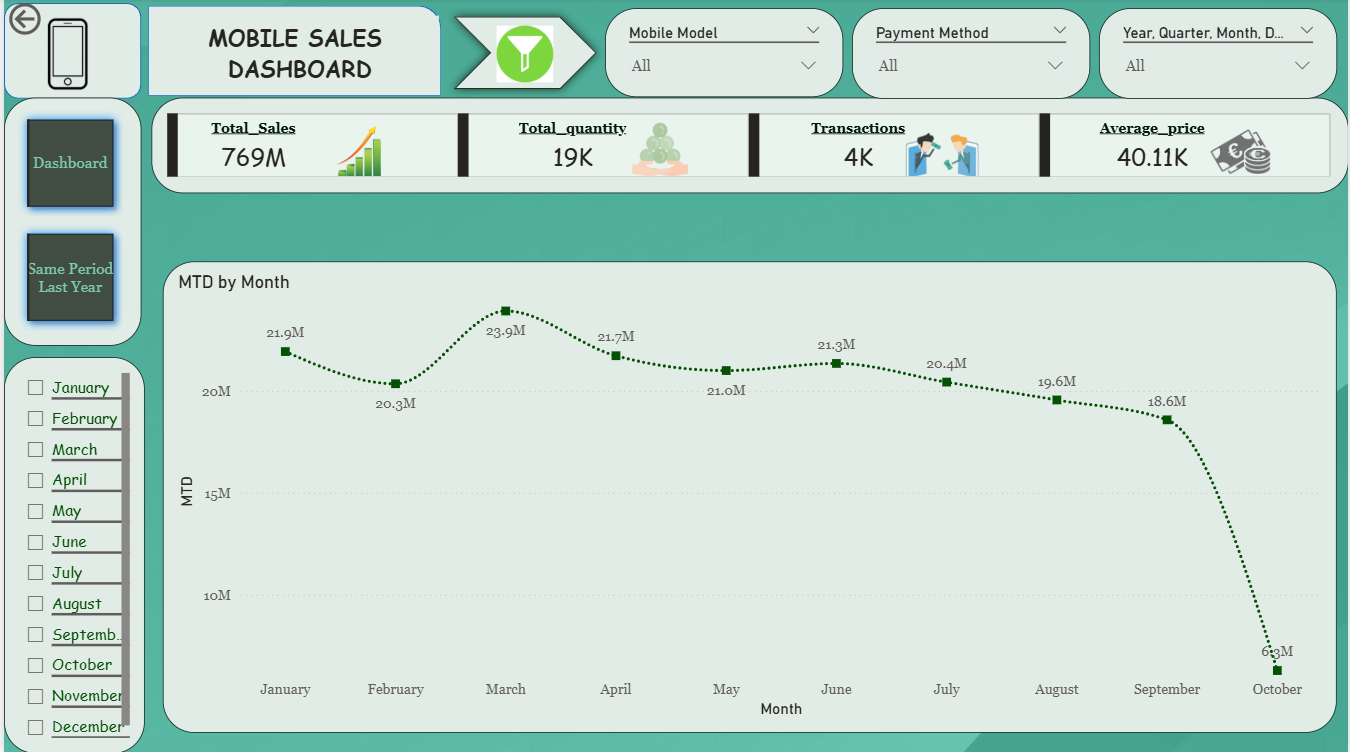

The page's visual inventory and layout, read from the dashboard file:
{"tool":"powerbi","page":{"name":"MTD REPORT","canvas":[1280,720],"ordinal":1},"visuals":[{"type":"shape","box":[420.1,9.6,152.4,85.2],"z":0},{"type":"shape","box":[0,4.8,130.8,91.2],"z":1000},{"type":"image","box":[7.2,12,106.8,82.8],"z":2000},{"type":"shape","box":[0,94.8,130.8,236.4],"z":3000},{"type":"cardVisual","fields":{"Data":["Sales_Data.Total_Sales","Sales_Data.Total_quantity","Sales_Data.Transactions","Sales_Data.Average_price"]},"box":[140.4,94.8,1140.2,91.2],"z":4000},{"type":"slicer","fields":{"Values":["Sales_Data.Payment Method"]},"box":[807.7,9.6,226.8,86.4],"z":5000},{"type":"slicer","fields":{"Values":["Sales_Data.Mobile Model"]},"box":[572.5,9.6,226.8,85.2],"z":6000},{"type":"shape","box":[136.8,7.2,279.6,86.4],"z":7000},{"type":"textbox","box":[140.4,16.8,273.6,70.8],"z":8000},{"type":"image","box":[464,19.4,63.9,68.1],"z":9000},{"type":"lineChart","fields":{"Y":["Sales_Data.MTD"],"Category":["Custom_calendar.Date.Variation.Date Hierarchy.Year","Custom_calendar.Date.Variation.Date Hierarchy.Quarter","Custom_calendar.Date.Variation.Date Hierarchy.Month","Custom_calendar.Date.Variation.Date Hierarchy.Day"]},"box":[151.2,250.8,1118.6,448.9],"z":10000},{"type":"actionButton","box":[0,0,100,40],"z":11000},{"type":"slicer","fields":{"Values":["Custom_calendar.Date.Variation.Date Hierarchy.Month"]},"box":[0,341.9,134.4,378.1],"z":12000},{"type":"slicer","fields":{"Values":["Custom_calendar.Date.Variation.Date Hierarchy.Year","Custom_calendar.Date.Variation.Date Hierarchy.Quarter","Custom_calendar.Date.Variation.Date Hierarchy.Month","Custom_calendar.Date.Variation.Date Hierarchy.Day"]},"box":[1043,9.6,226.8,86.4],"z":13000},{"type":"pageNavigator","box":[13.2,106.8,100.8,211.2],"z":14000}]}

Visuals, with their boxes in screenshot pixels (x1, y1, x2, y2), scaled from the page's 1280x720 canvas onto the 1350x752 screenshot:
shape: crop(443, 10, 604, 99)
shape: crop(0, 5, 138, 100)
image: crop(8, 13, 120, 99)
shape: crop(0, 99, 138, 346)
cardVisual - Sales_Data.Total_Sales x Sales_Data.Total_quantity: crop(148, 99, 1349, 194)
slicer - Sales_Data.Payment Method: crop(852, 10, 1091, 100)
slicer - Sales_Data.Mobile Model: crop(604, 10, 843, 99)
shape: crop(144, 8, 439, 98)
textbox: crop(148, 18, 437, 91)
image: crop(489, 20, 557, 91)
lineChart - Sales_Data.MTD x Custom_calendar.Date.Variation.Date Hierarchy.Year: crop(159, 262, 1339, 731)
actionButton: crop(0, 0, 105, 42)
slicer - Custom_calendar.Date.Variation.Date Hierarchy.Month: crop(0, 357, 142, 751)
slicer - Custom_calendar.Date.Variation.Date Hierarchy.Year x Custom_calendar.Date.Variation.Date Hierarchy.Quarter: crop(1100, 10, 1339, 100)
pageNavigator: crop(14, 112, 120, 332)
